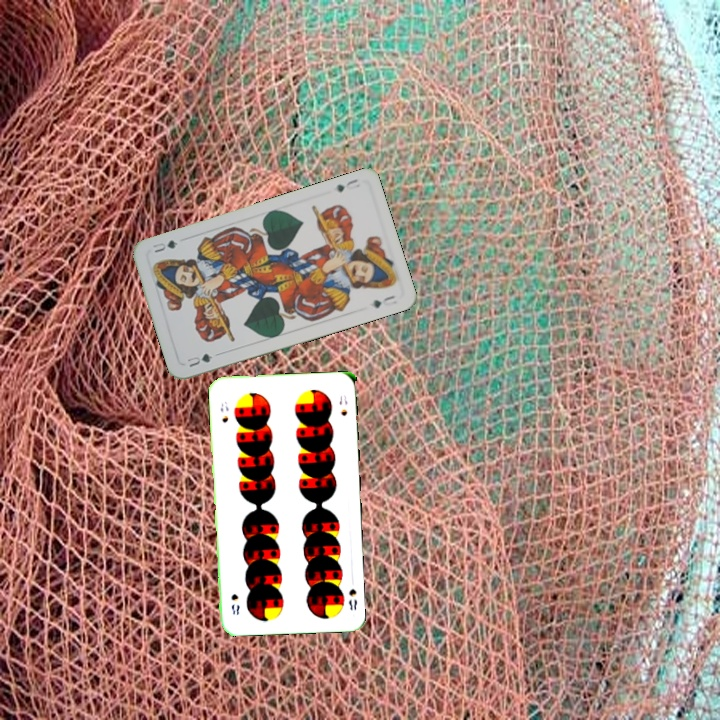GU: (183, 349, 215, 370), (333, 175, 360, 195)
S8: (345, 584, 359, 613), (217, 398, 231, 425)
